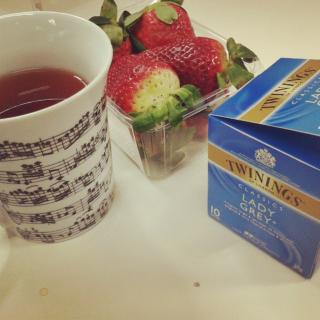Strawberry: (108, 54, 182, 118), (162, 32, 231, 91), (132, 0, 196, 50), (112, 32, 134, 64)
